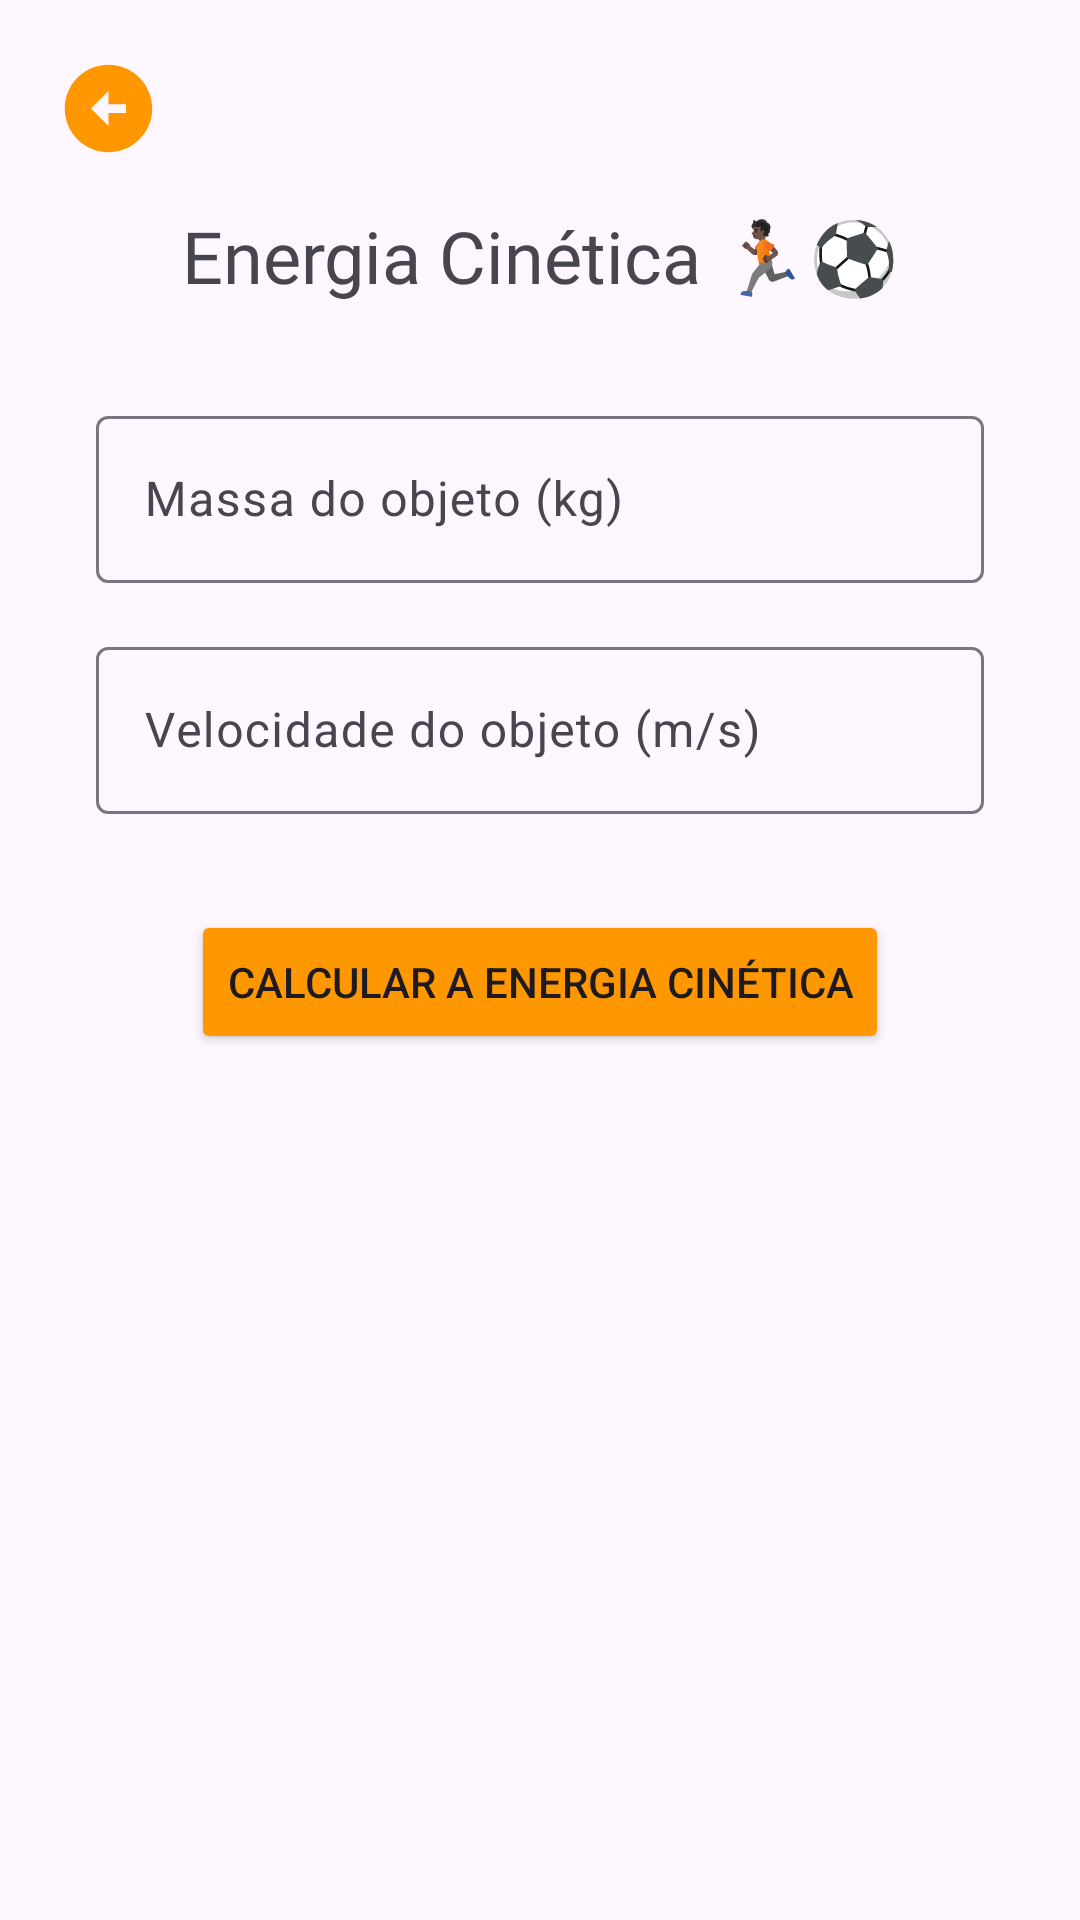

Named icons in this screenshot (1080*1920) and their centers, [x,y]:
Voltar: [108,108]
